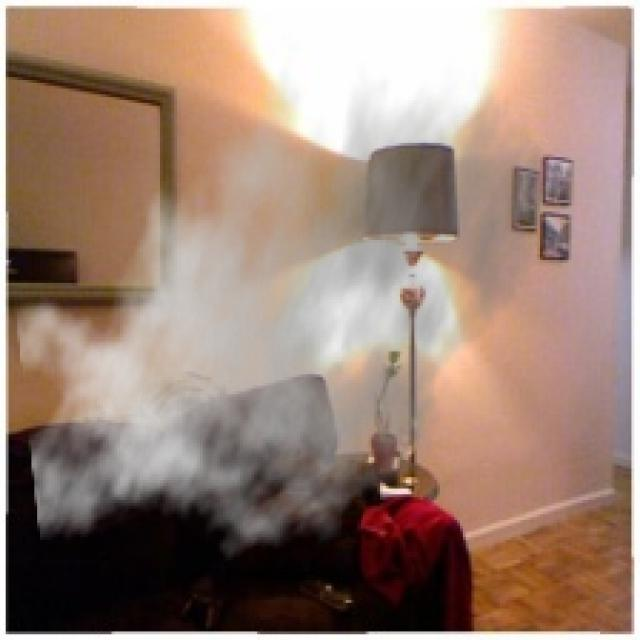smoke: (14, 32, 552, 577)
